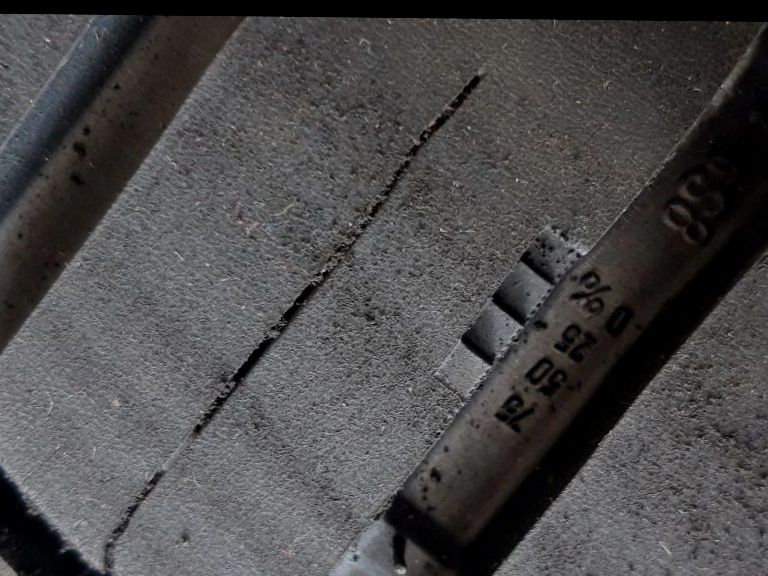temoin:75: (422, 214, 604, 417)
